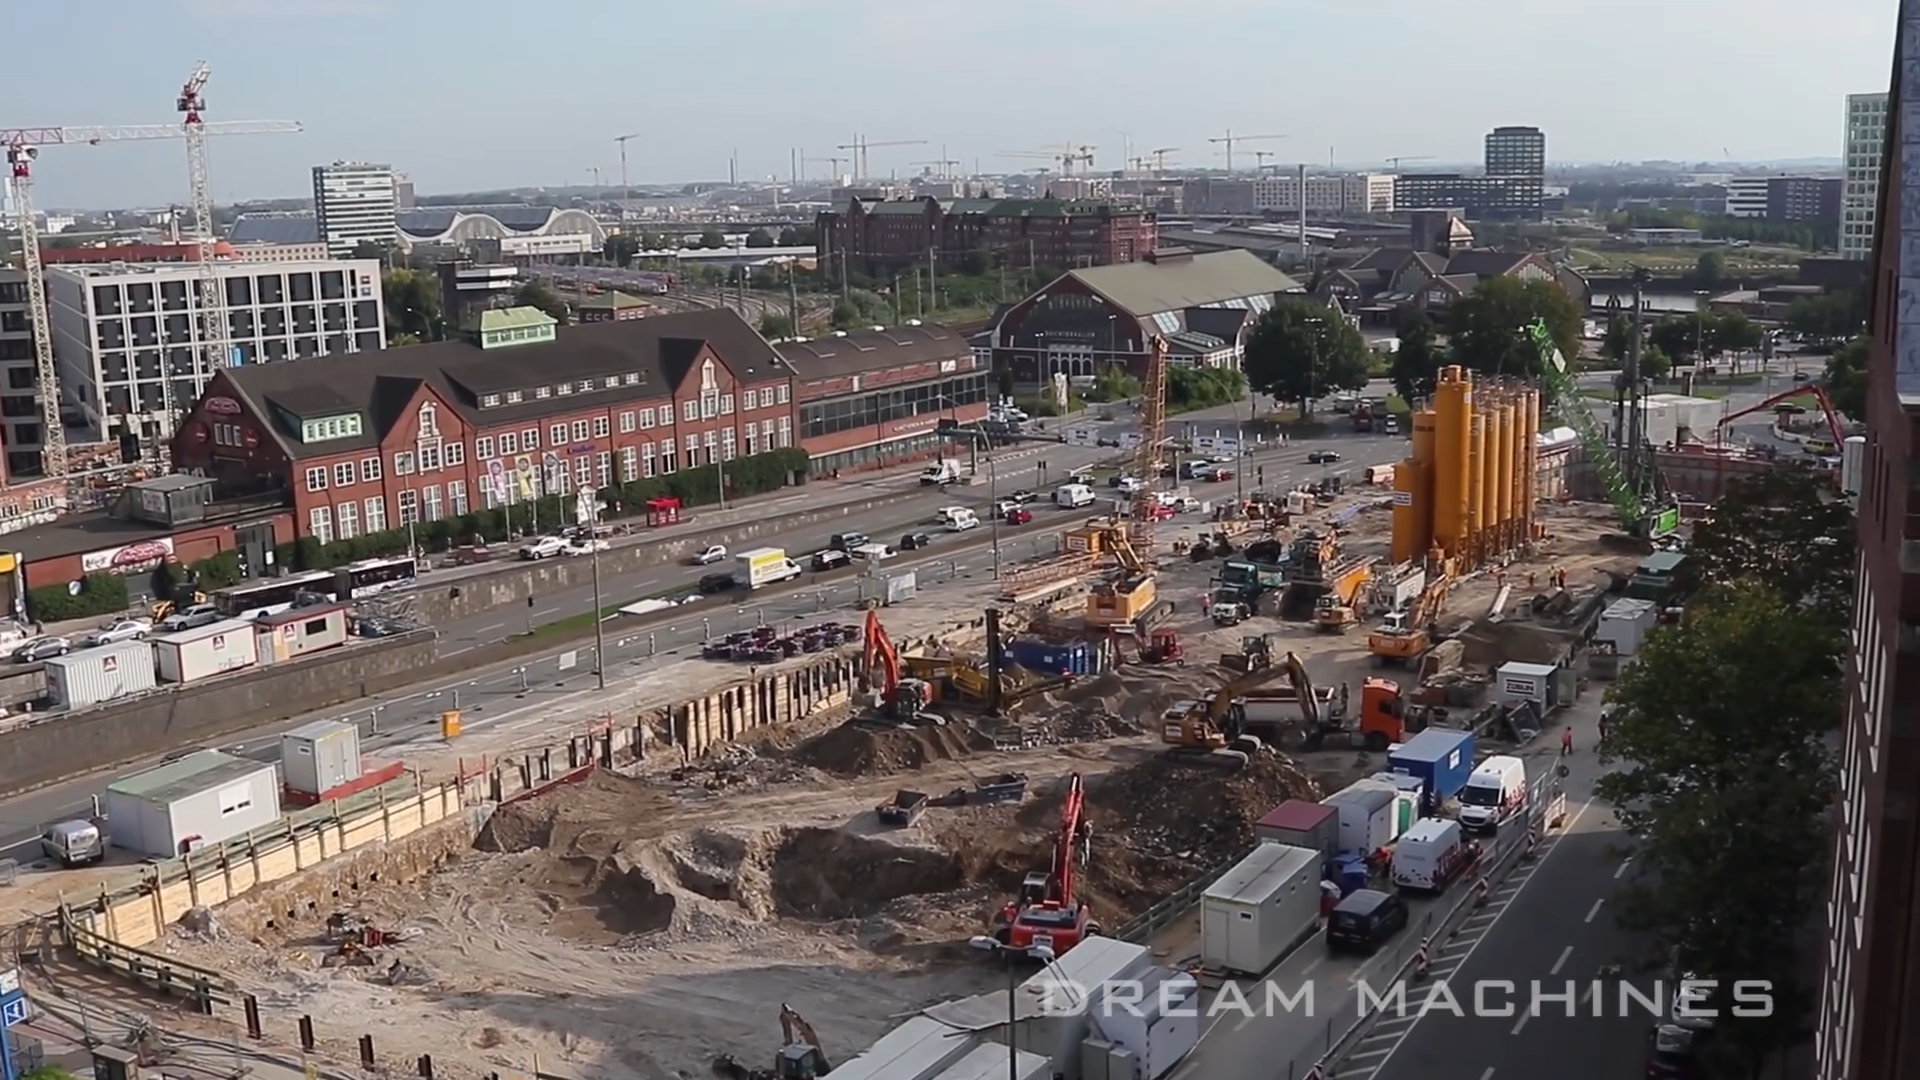excavator: (1151, 637, 1338, 738), (1004, 770, 1105, 949), (839, 597, 934, 731), (1371, 568, 1485, 659)
